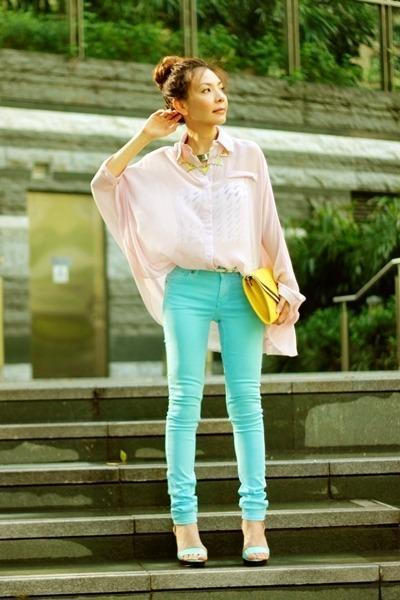bag: (242, 267, 297, 334)
pants: (156, 265, 275, 532)
shirt: (90, 124, 305, 323)
shoe: (175, 521, 269, 561)
